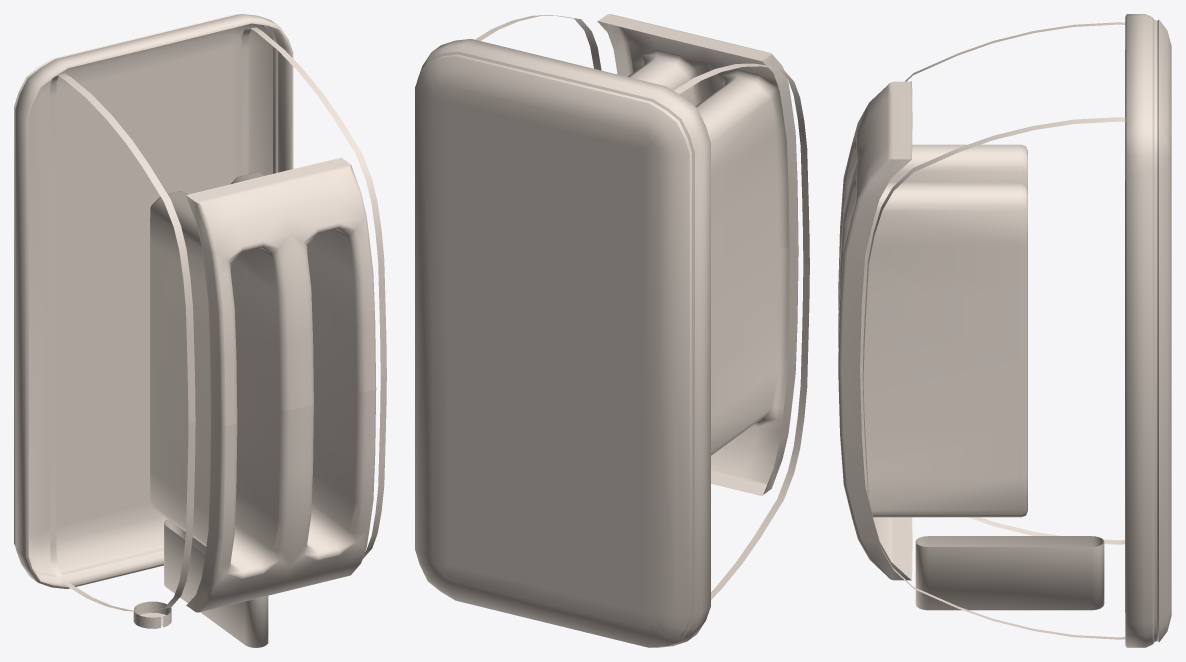
The model's file is MeshToaster_14_0_GeomSubset_2.obj.
3 views of the same model, side by side, from view 1: azimuth 30°, elevation 25°; view 2: azimuth 150°, elevation 25°; view 3: azimuth 270°, elevation 25° (orthographic). The views are drawn at different scales.
Parts seen in each view (by area): view 1: MeshToaster_14_0_GeomSubset_2; view 2: MeshToaster_14_0_GeomSubset_2; view 3: MeshToaster_14_0_GeomSubset_2.
Part boxes in pixels (x1,y1,x2,y2): MeshToaster_14_0_GeomSubset_2: [14, 14, 386, 647]; MeshToaster_14_0_GeomSubset_2: [415, 14, 809, 647]; MeshToaster_14_0_GeomSubset_2: [838, 14, 1171, 647].
Bounding box in the file's own units: 0.2285 × 0.436 × 0.2397.
